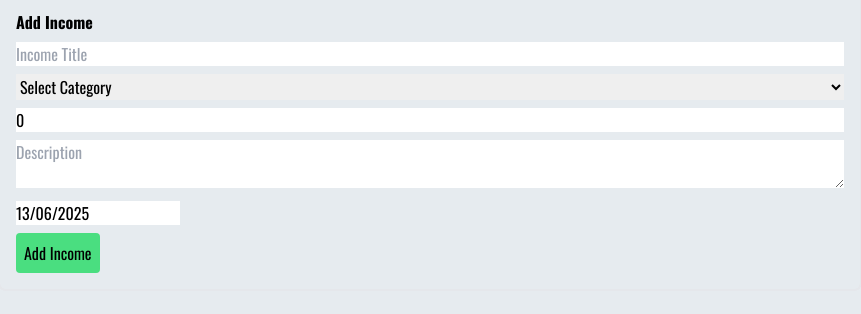
Test case: addIncome › AddIncomeAppDashboard input validations › displays an error message if the {"name":"title"} field is empty
This screenshot has width=861, height=314.
Step 1. Select "Salary" in the dropdown with test id "category" → point(430, 87), box [16, 74, 844, 100]
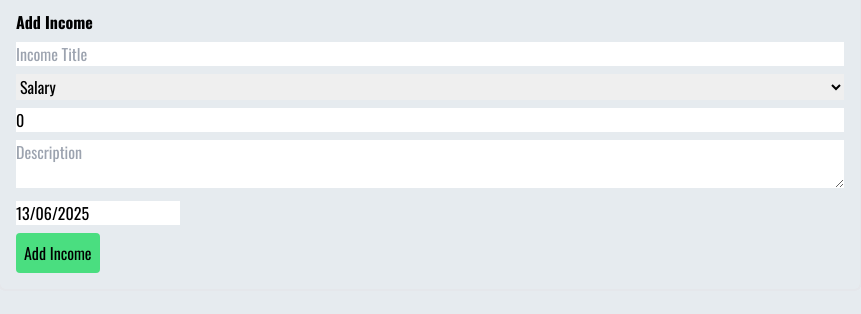
Step 2. Replace the text in the number field with test id "amount" with "100" → point(430, 120), box [16, 108, 844, 132]
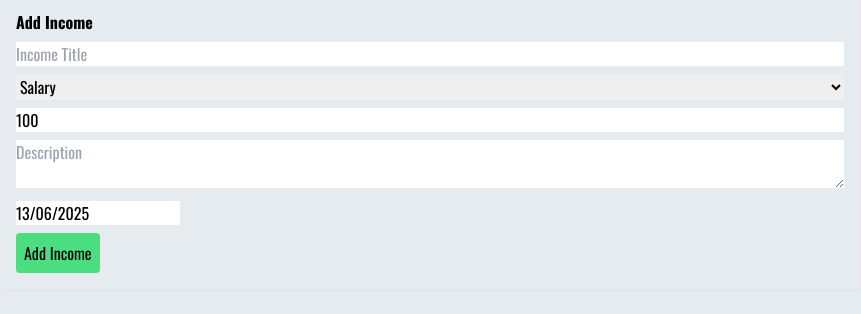
Step 3. Type "description" into the text box with test id "description" → point(430, 164), box [16, 140, 844, 188]
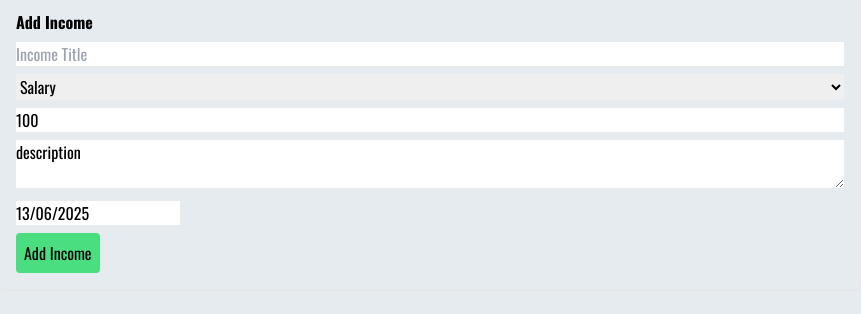
Step 4. Submit the form with test id "add-income-form"
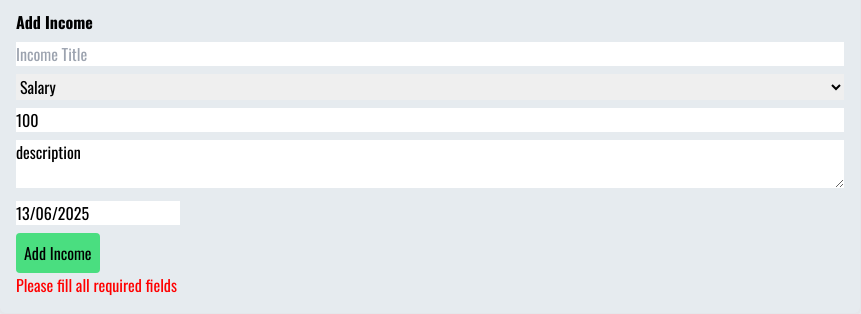
Expected: the text with test id "submit-message" reads "Please fill all required fields", [16, 273, 177, 297]
